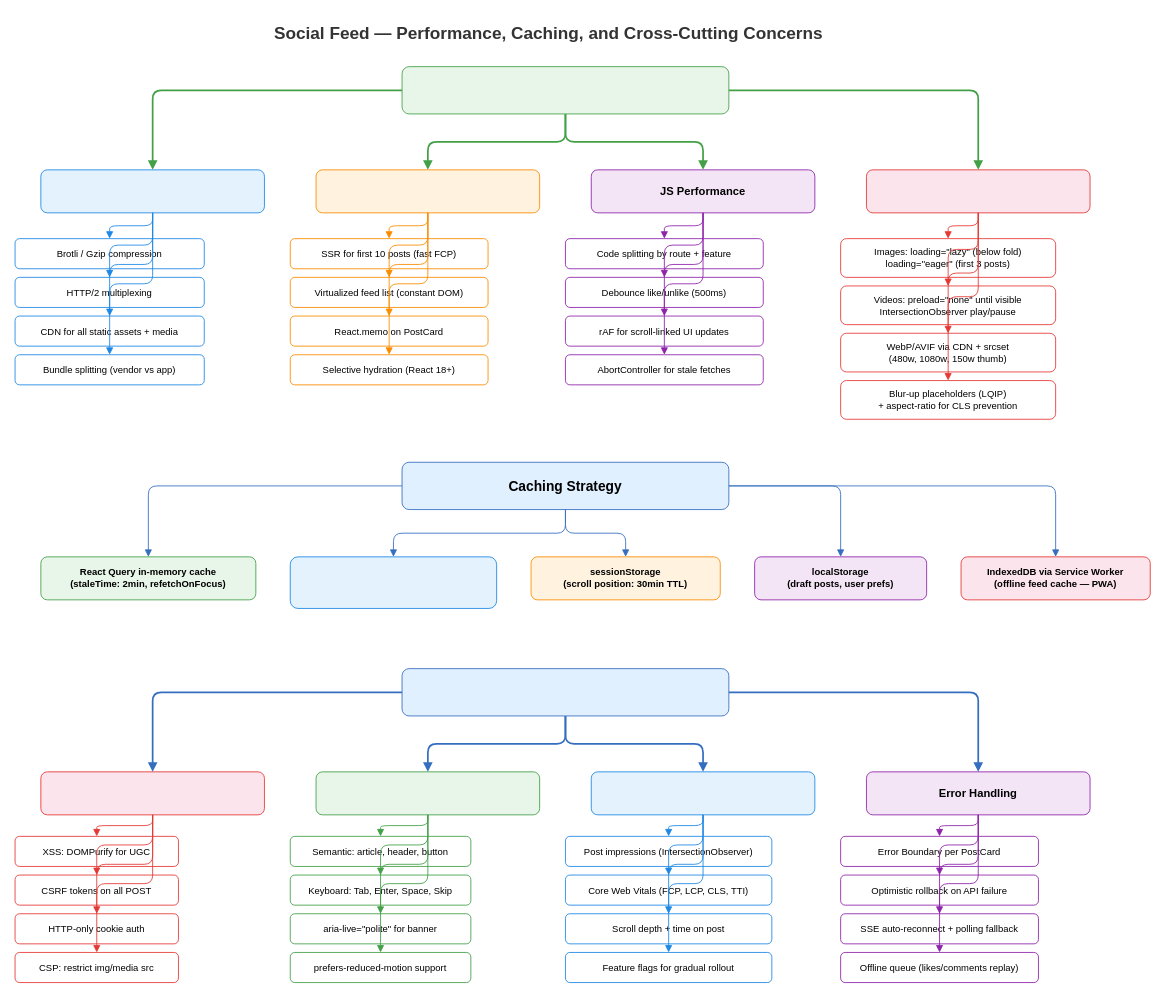
Image size: 1165x998. Some labels were removed from this diagram. Here are the shapes that lost their labels. From the top down, the centre of each, then its label:
At point (565, 90): "Performance Optimization".
At point (152, 191): "Network Performance".
At point (427, 191): "Rendering Performance".
At point (978, 191): "Media Strategy".
At point (393, 582): "Browser HTTP cache + CDN (images/videos: max-age 1yr, immutable with hash)".
At point (565, 692): "Cross-Cutting Concerns".
At point (152, 793): "Security".
At point (427, 793): "Accessibility (A11y)".
At point (702, 793): "Observability".
